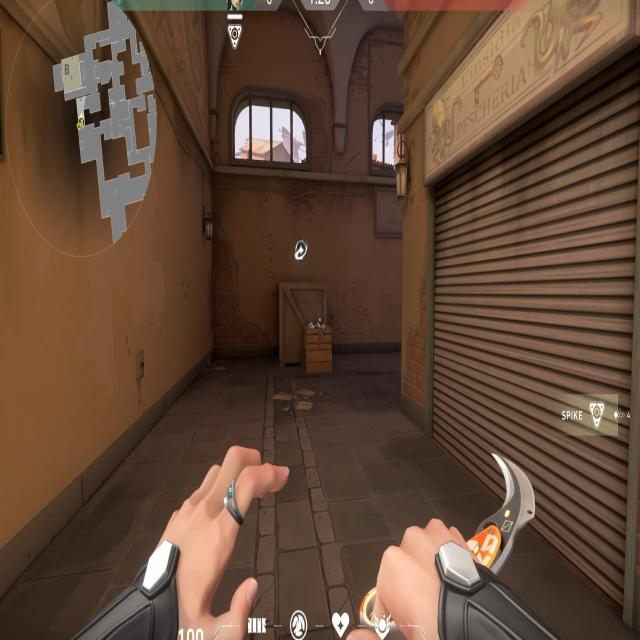B_Main_Wallbang: (267, 233, 348, 379)
Throwables: (225, 84, 318, 180), (365, 106, 404, 188)
